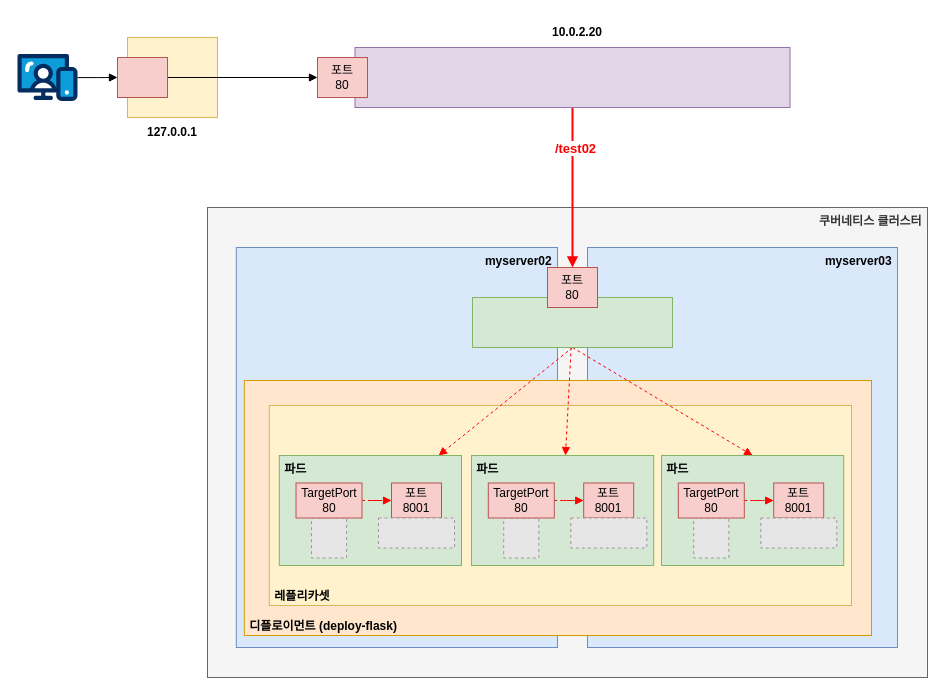
The diagram is 945 pixels wide and 695 high, and some of its shapes have lost their labels. Grey dashed boxes stand in for pictures. The shapes that lost their labels are listed below. From the top down, each one's centre as x and y in pixels, then its label:
At point 142,77: "포트 2000".
At point 572,77: "nginx-ingress-controller loadbalander".
At point 572,322: "서비스 (flask-service)".
